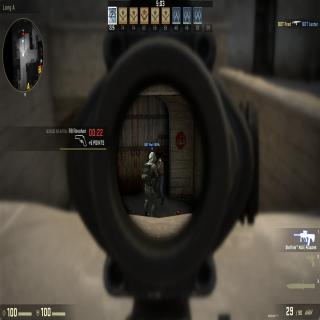CT-Body: (142, 151, 158, 217)
CT-Head: (148, 152, 157, 164)
T-Body: (156, 156, 164, 204)
T-Head: (158, 156, 162, 164)
